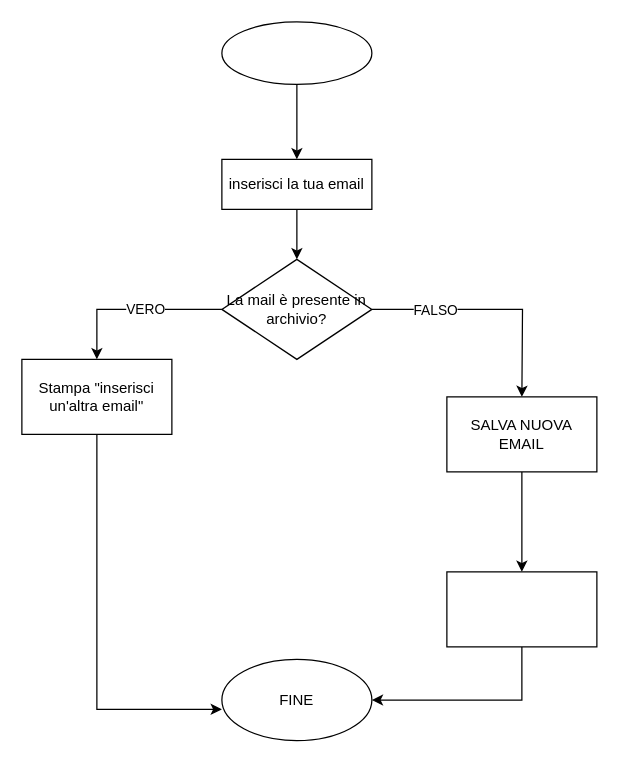
Image size: 619x763. Some labels were removed from this diagram. Each missing label, with the box of its shape:
EMAIL SALVATA CORRETTAMENTE: (446, 571, 597, 647)
inizio: (221, 21, 372, 84)
